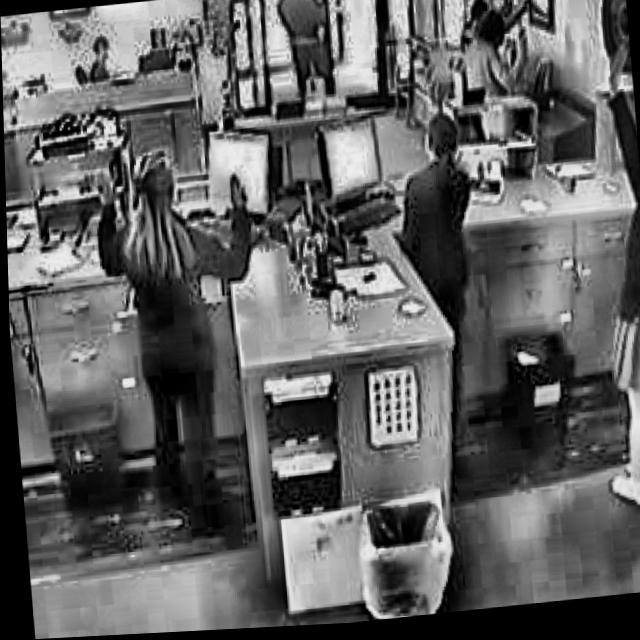robbery: (83, 140, 258, 303), (451, 0, 545, 107)
